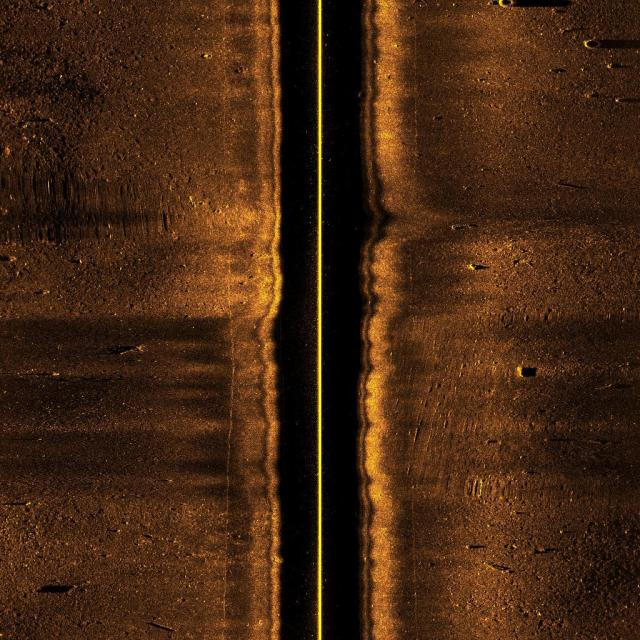mine: (37, 583, 79, 596), (143, 619, 178, 634), (515, 361, 539, 381), (470, 258, 490, 276)
